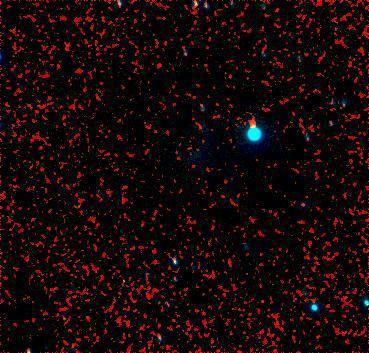star: (237, 107, 267, 137)
